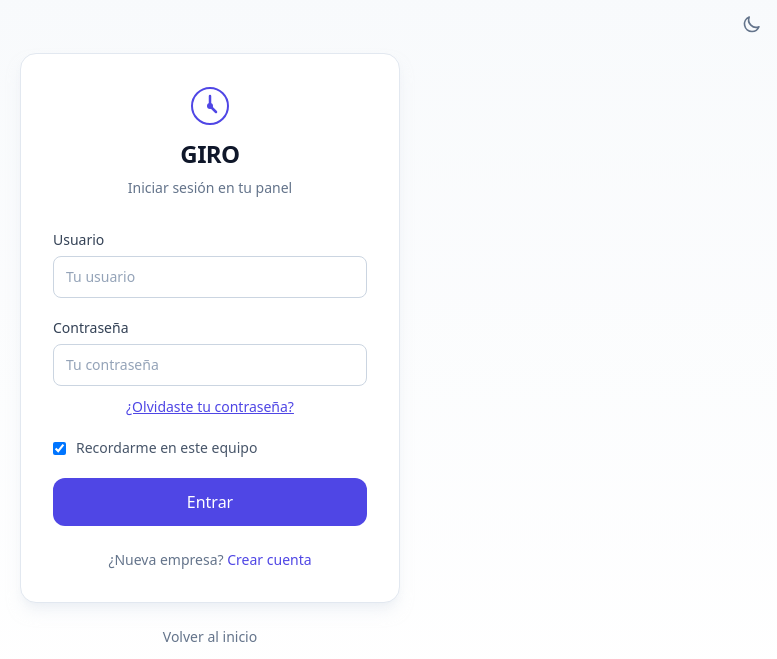
Test: LoginPage › deshabilita el botón mientras carga
In the field labelled "Usuario": point(210, 277) [53,256,367,298], type "user"
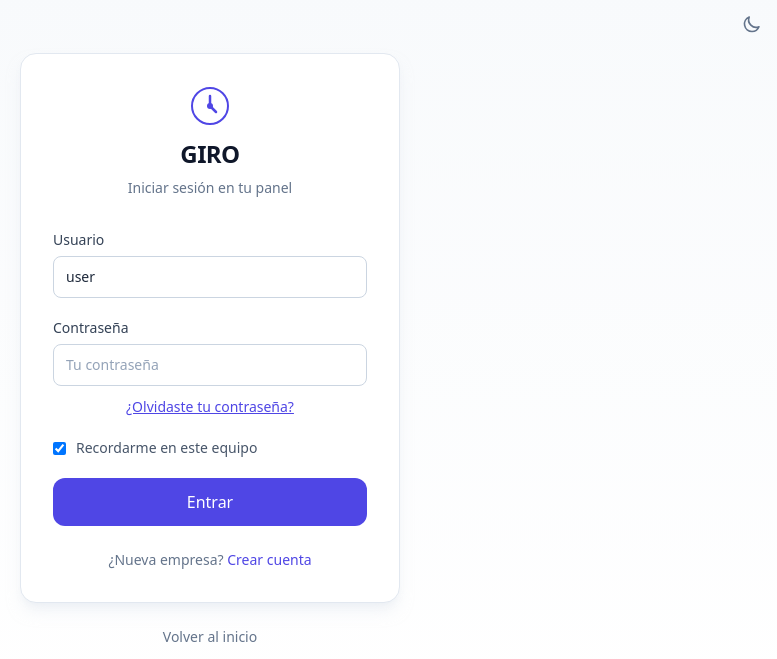
In the password field labelled "Contraseña": point(210, 365) [53,344,367,386], type "pass"
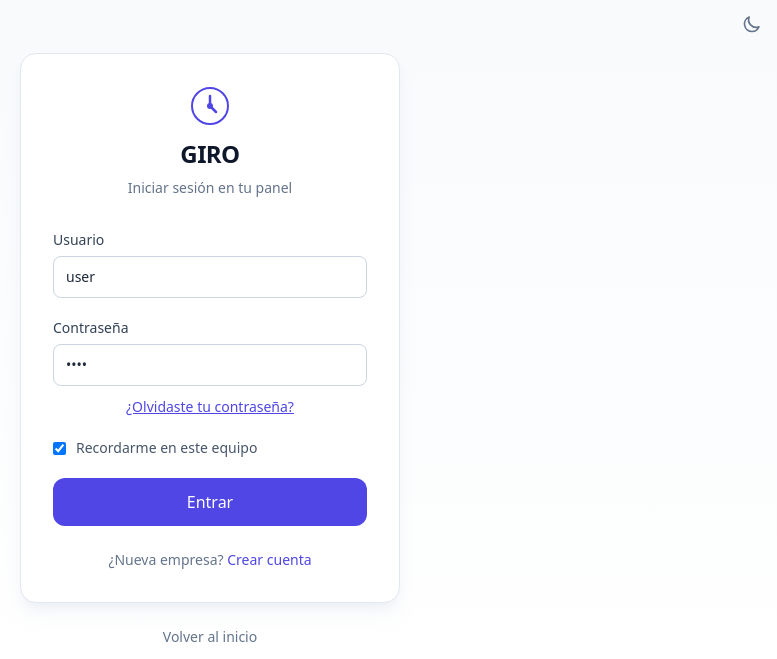
Click the button "Entrar": point(210, 502) [53,478,367,526]
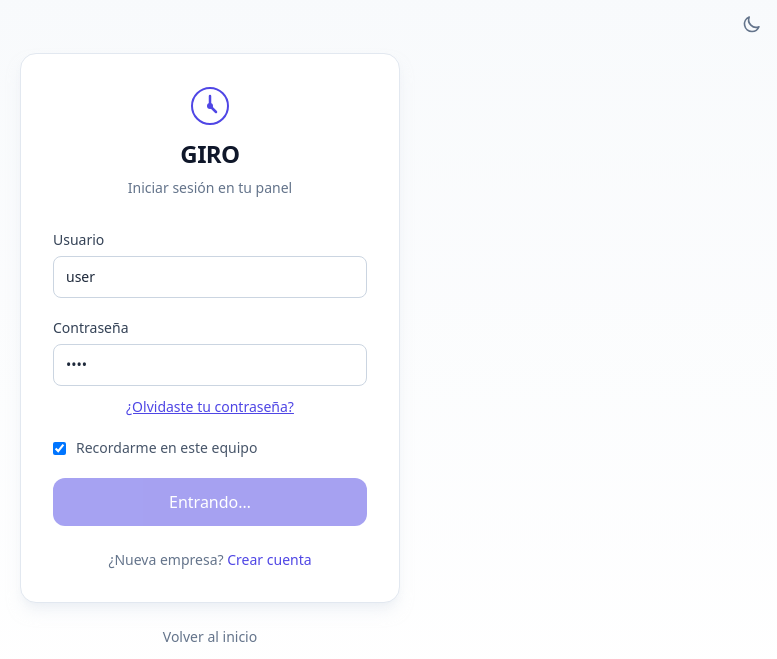
Check: the button "Entrando…" is disabled, box [53,478,367,526]
